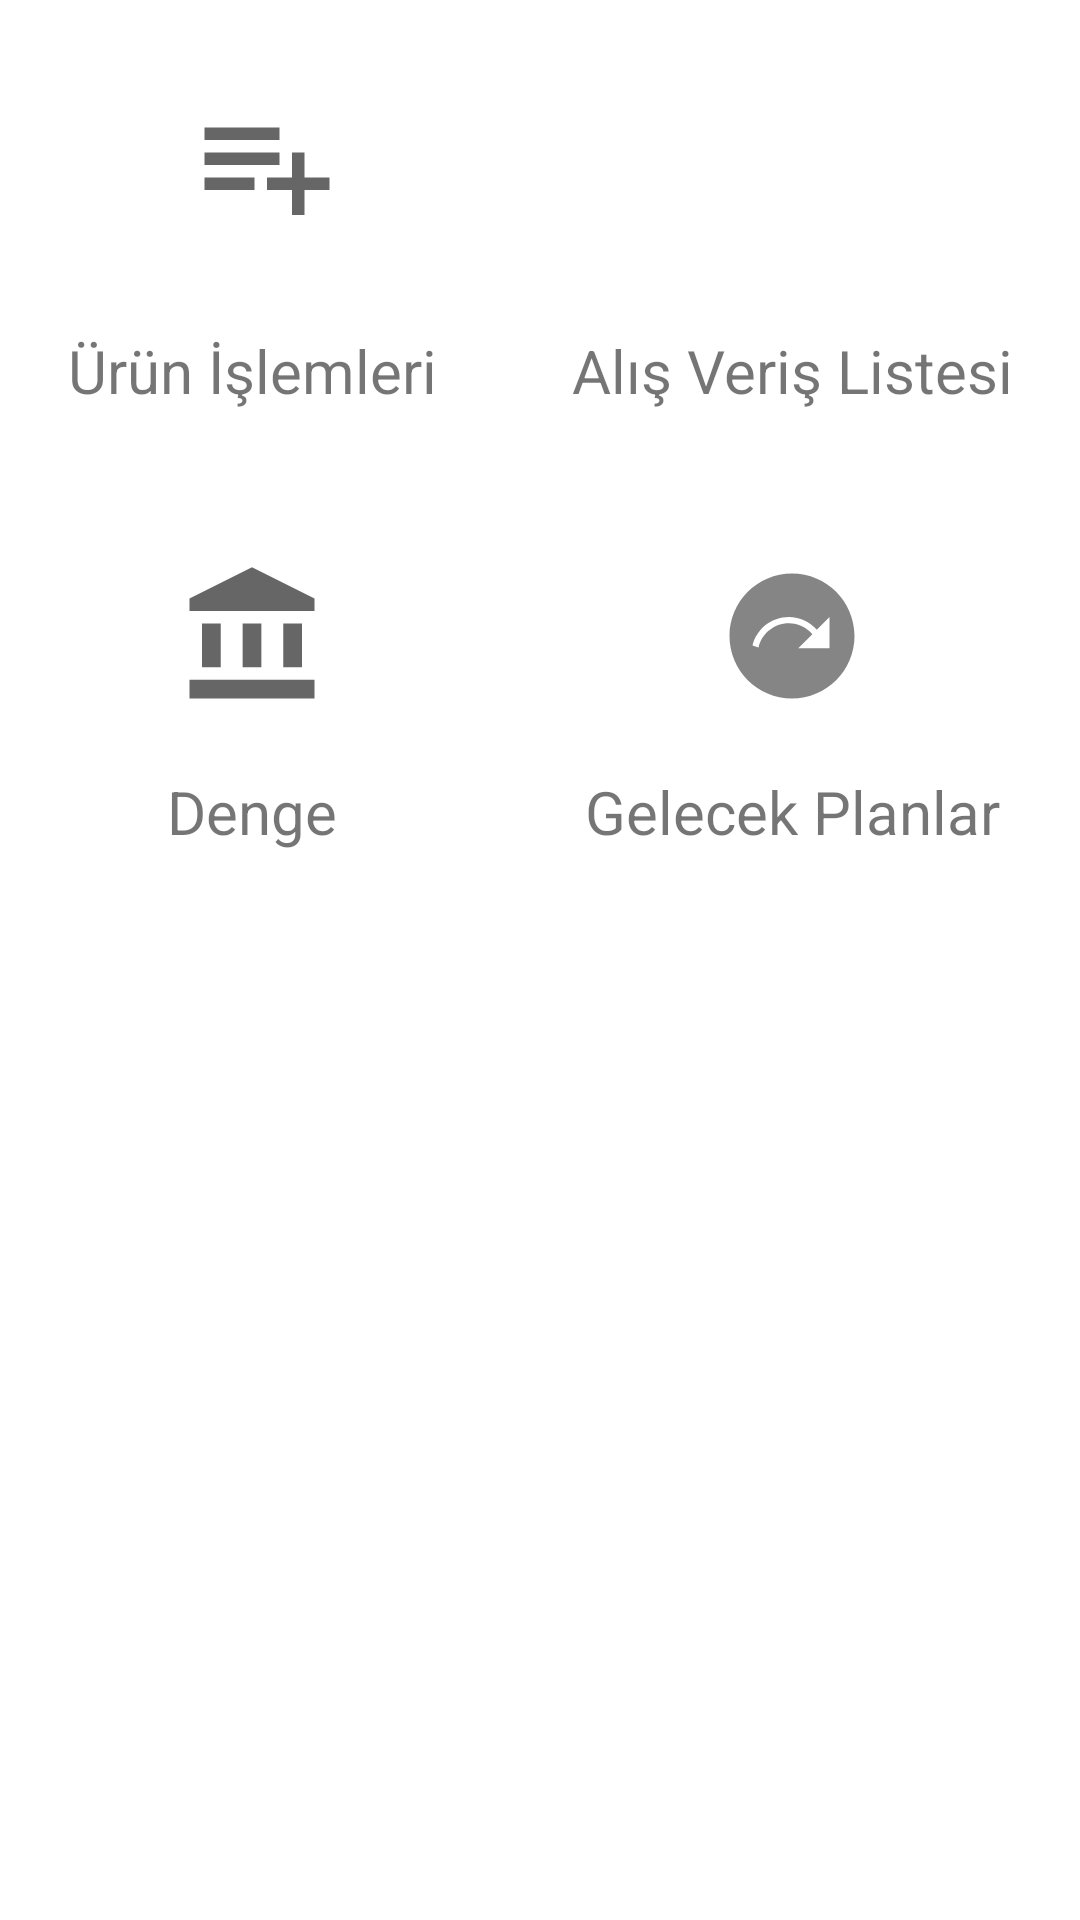

Screen size 1080*1920. Icon name, then its box in pixels as BBox(x1, y1, x2, y2):
urun ekle: BBox(204, 127, 330, 215)
